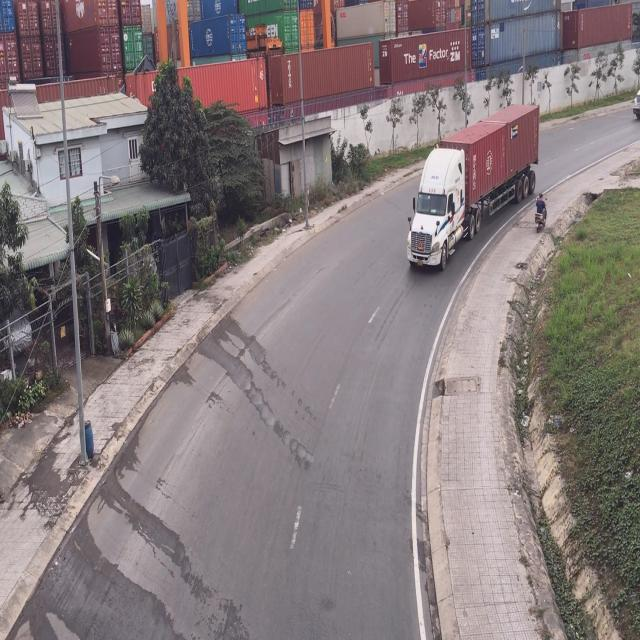motorbike: (534, 194, 547, 232)
truck: (409, 111, 543, 274)
